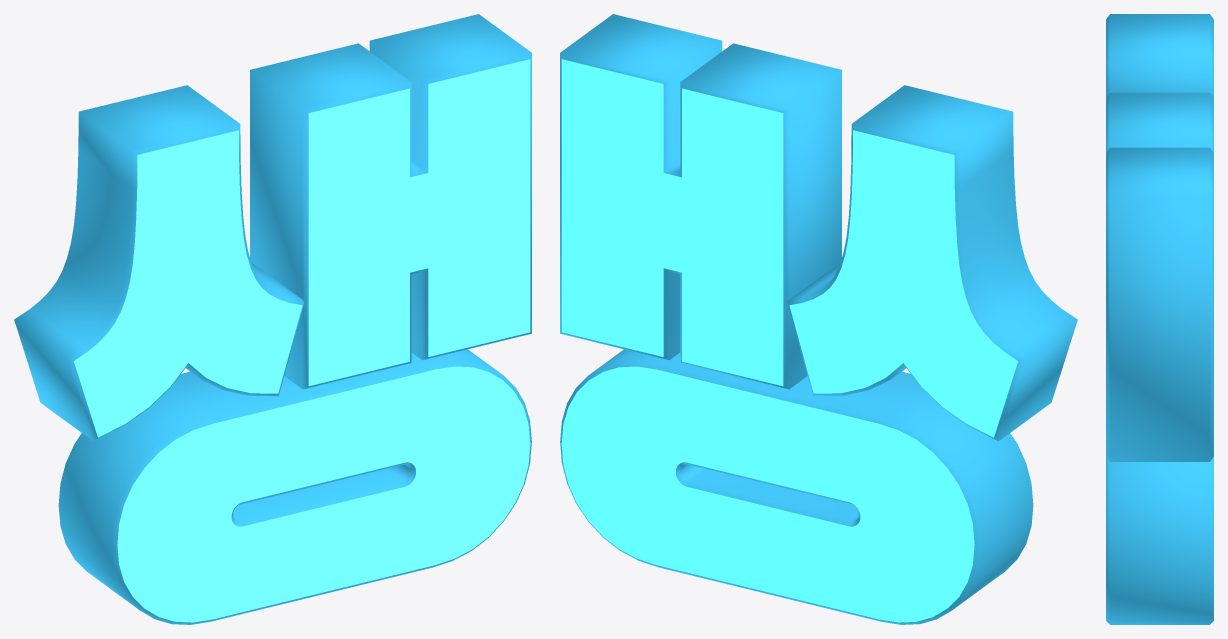
3 renders of one model, left to right at view 1: azimuth 30°, elevation 25°; view 2: azimuth 150°, elevation 25°; view 3: azimuth 270°, elevation 25°, orthographic. The views are drawn at different scales.
Parts seen in each view (by area): view 1: glyph; view 2: glyph; view 3: glyph.
Part boxes in pixels (<box>): glyph: <box>14,14,531,624</box>; glyph: <box>560,14,1077,624</box>; glyph: <box>1106,14,1213,624</box>.
Bounding box in the file's own units: 0.0759 × 0.0766 × 0.0162.
